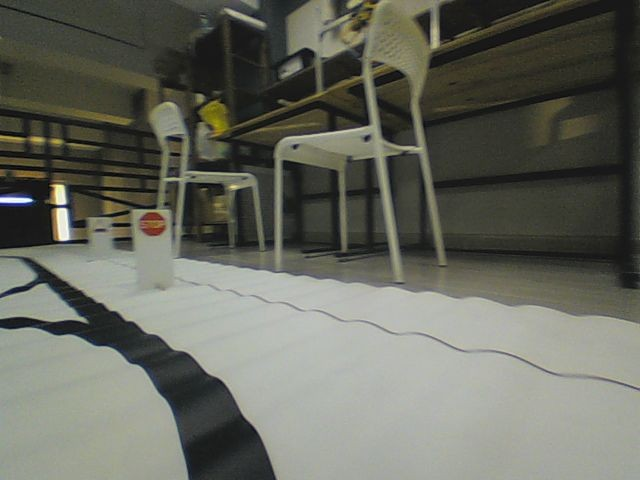Stop: (137, 211, 167, 238)
